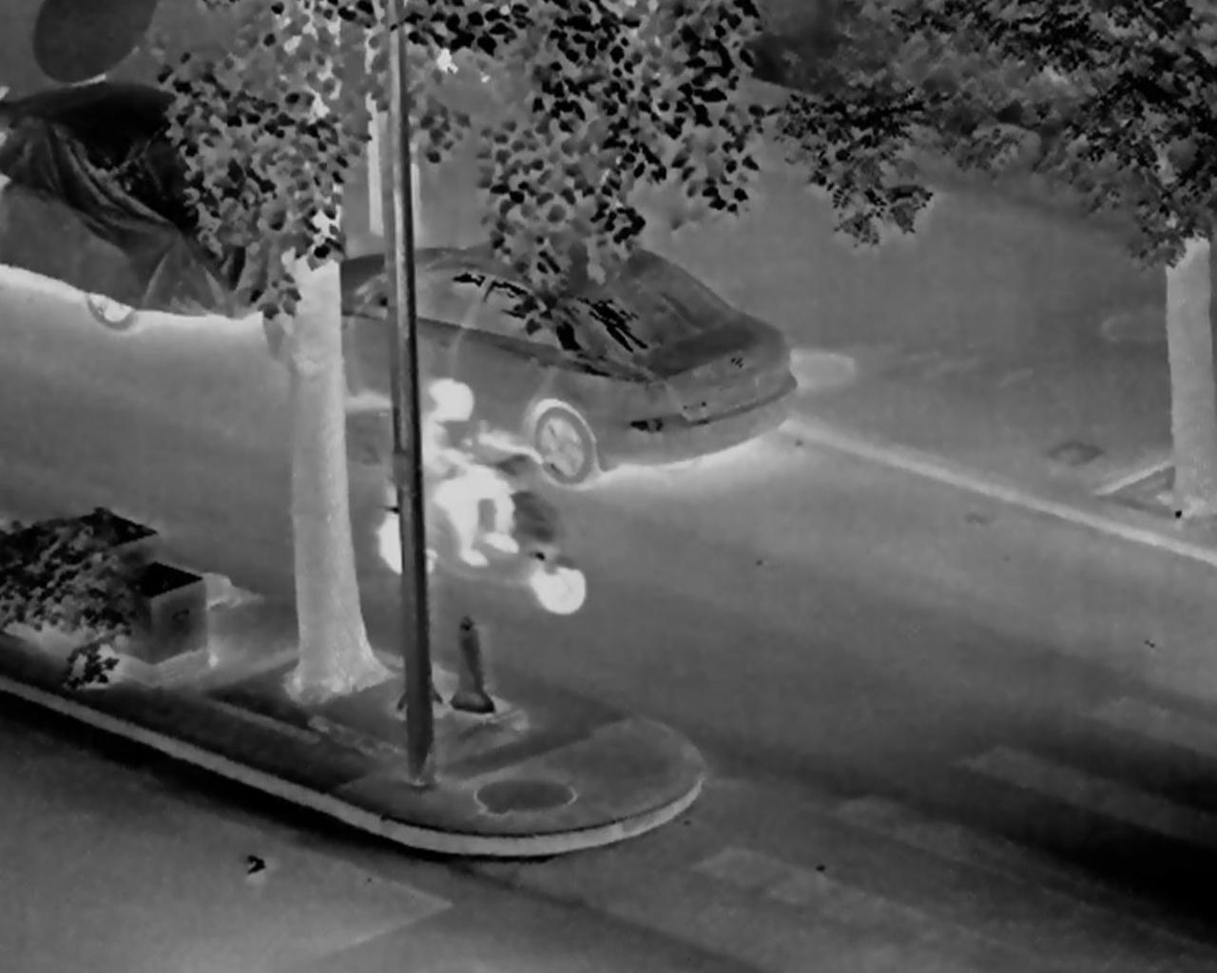person: (415, 376, 521, 569)
